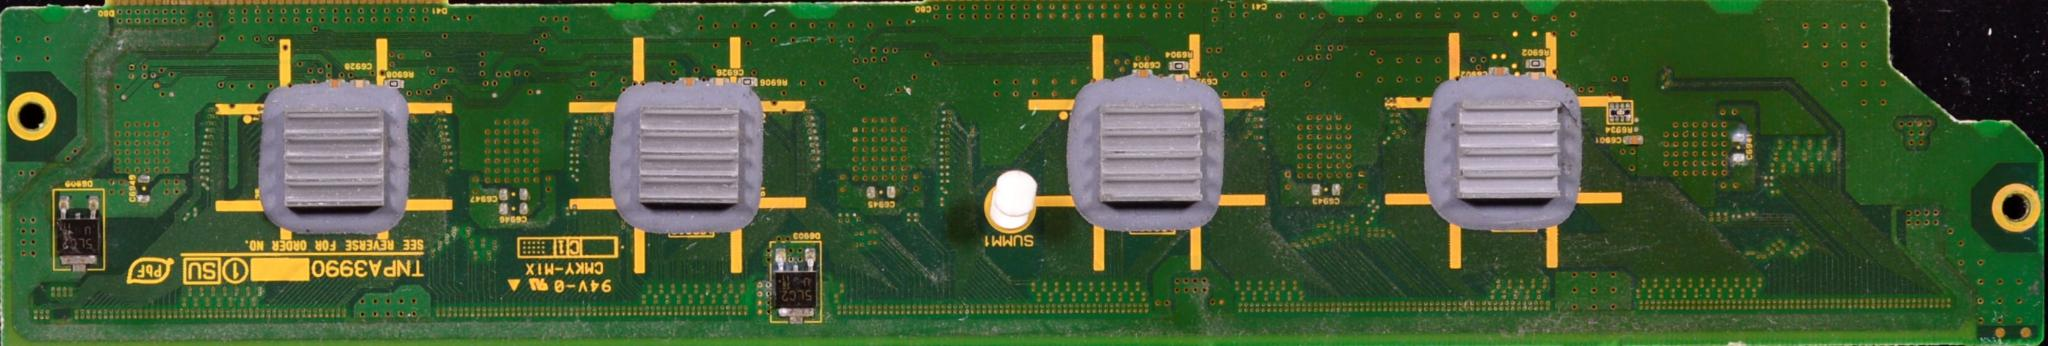Capacitor Jumper: (1304, 167, 1358, 209), (1724, 128, 1758, 176), (124, 166, 157, 208), (857, 183, 904, 209), (491, 197, 532, 222), (491, 181, 534, 200), (1480, 60, 1518, 80), (1613, 132, 1651, 146), (705, 72, 733, 91), (347, 74, 375, 89), (1128, 67, 1159, 80)
Resistor Jumper: (1601, 91, 1647, 125), (1164, 54, 1202, 72), (384, 72, 408, 91), (737, 73, 761, 90), (1522, 54, 1549, 68)
